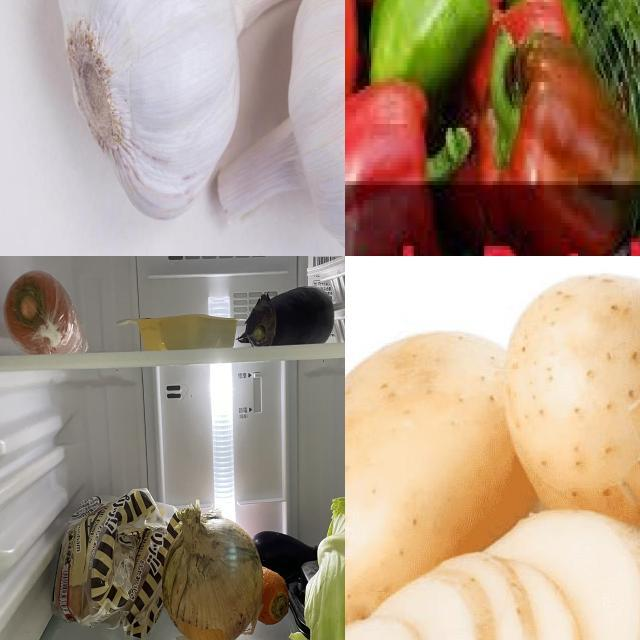bell_pepper: (364, 1, 498, 115)
cabbage: (304, 479, 346, 640)
carrot: (7, 268, 89, 356), (259, 566, 291, 628)
eggplant: (241, 284, 333, 344), (254, 530, 320, 578)
garlic: (56, 1, 318, 223), (217, 1, 346, 257)
onion: (161, 504, 263, 640)
potato: (346, 333, 535, 640), (505, 276, 640, 640), (346, 510, 640, 640)
